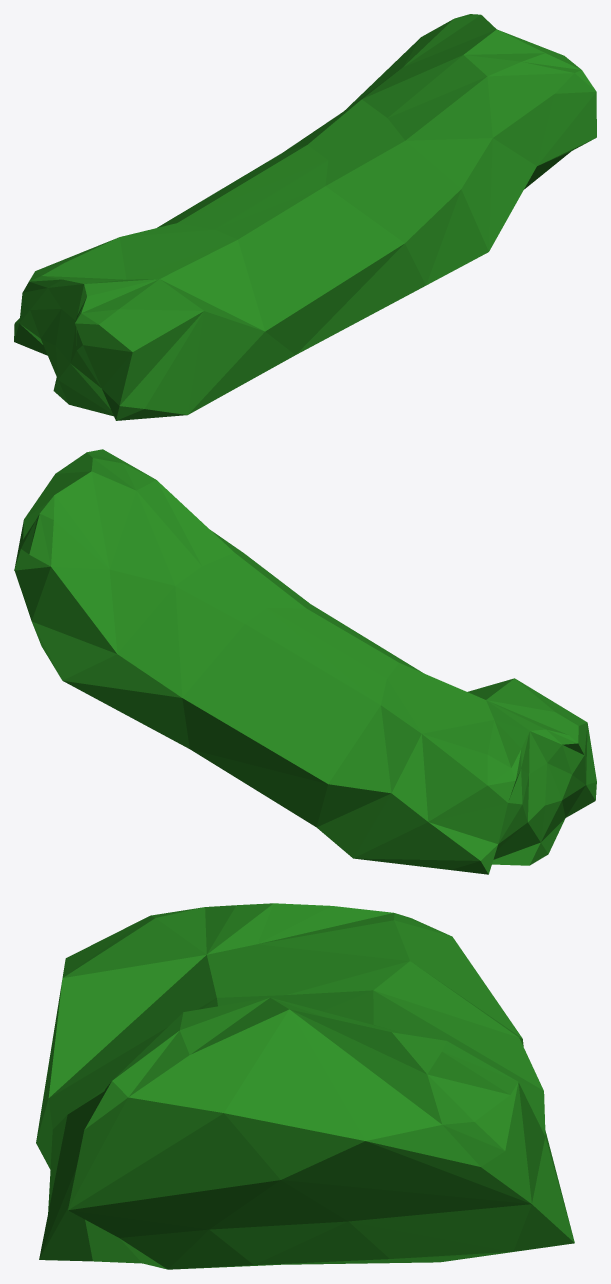
The model's file is o_decal_mediumcurve0.FBX.
3 renders of one model, top to bottom at view 1: azimuth 30°, elevation 25°; view 2: azimuth 150°, elevation 25°; view 3: azimuth 270°, elevation 25°, orthographic. The views are drawn at different scales.
Visible parts, largest first — view 1: O_GrassCurve_Medium0; view 2: O_GrassCurve_Medium0; view 3: O_GrassCurve_Medium0.
Part boxes in pixels (bbox=[...]): O_GrassCurve_Medium0: bbox=[14, 14, 596, 420]; O_GrassCurve_Medium0: bbox=[14, 449, 596, 874]; O_GrassCurve_Medium0: bbox=[36, 903, 574, 1269].
Size of the model in its own units: 335 by 171 by 158.
